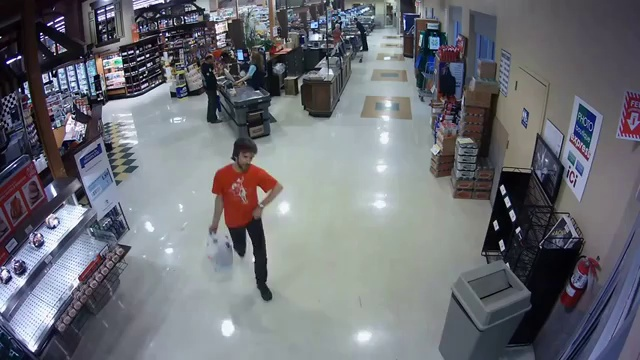face: (236, 148, 253, 170)
